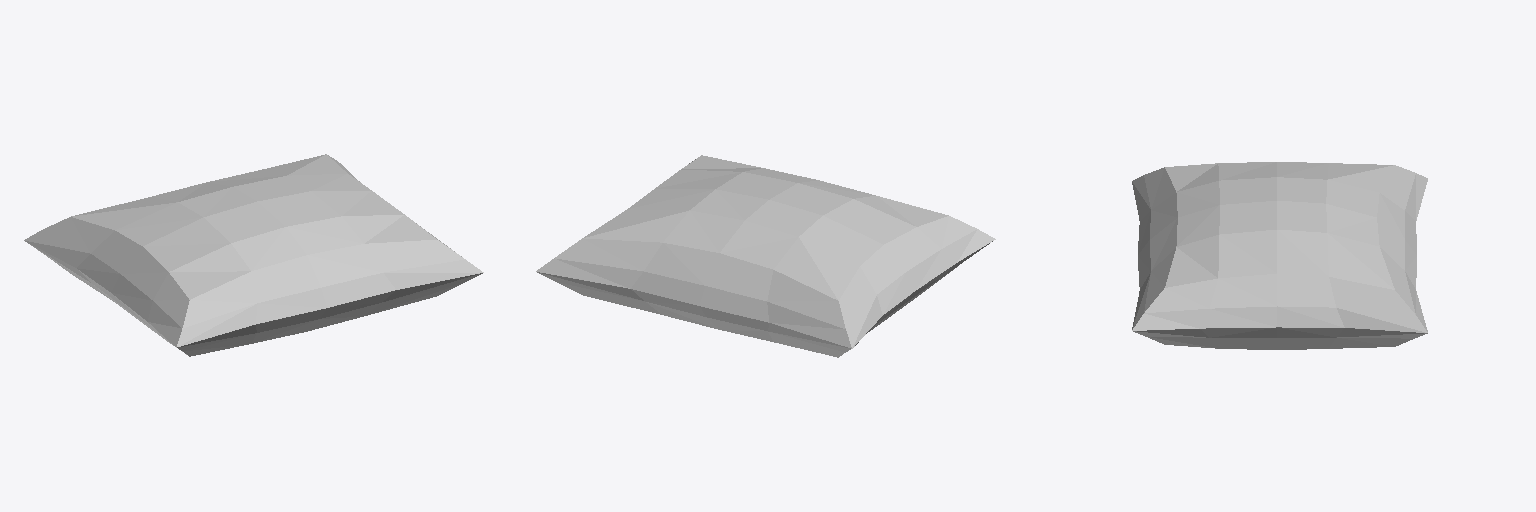
The model's file is cuscino4.obj.
The picture shows the model from 3 angles: view 1: azimuth 30°, elevation 25°; view 2: azimuth 150°, elevation 25°; view 3: azimuth 270°, elevation 25°; orthographic projection.
Visible parts, largest first — view 1: obj_0; view 2: obj_0; view 3: obj_0.
Boxes of the visible parts, x1,y1,x2,y2 form: obj_0: [24, 154, 483, 356]; obj_0: [536, 155, 995, 357]; obj_0: [1132, 162, 1427, 349].
Size of the model in its own units: 5.24 by 1.75 by 4.25.